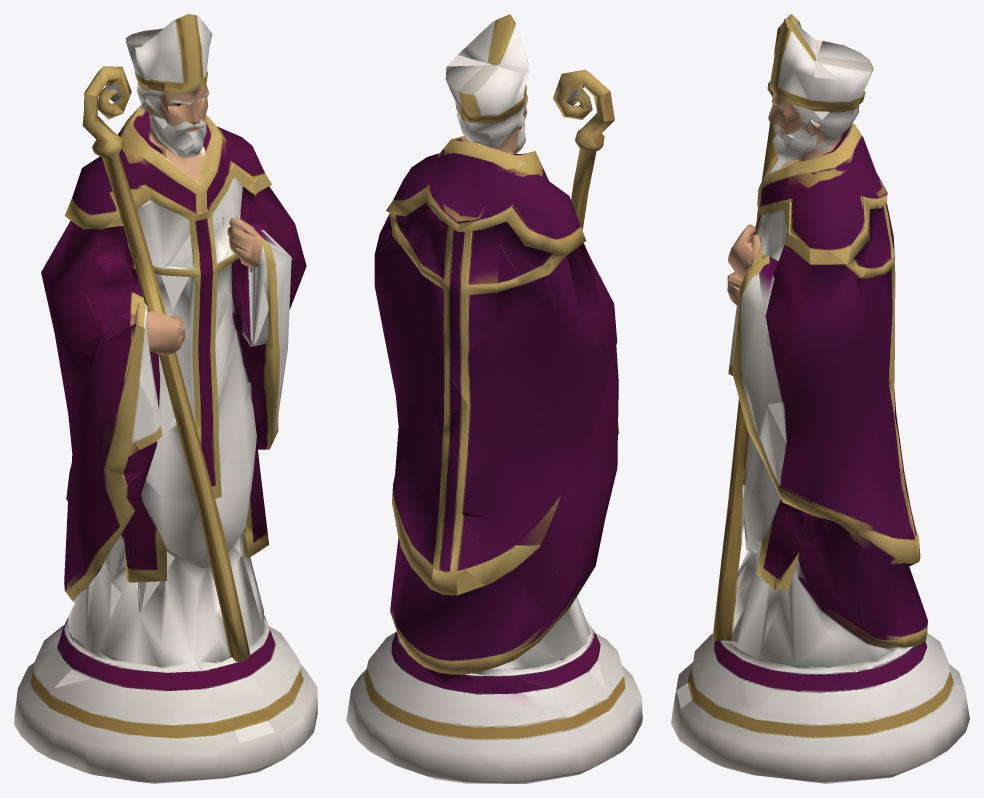
Rendered from bishop_white.glb.
The picture shows the model from 3 angles, left to right: view 1: azimuth 30°, elevation 25°; view 2: azimuth 150°, elevation 25°; view 3: azimuth 270°, elevation 25°; orthographic projection. The views are drawn at different scales.
Bounding box in the file's own units: 0.7529 × 2 × 0.7629.
Materials: 1 (1 with a texture image).
